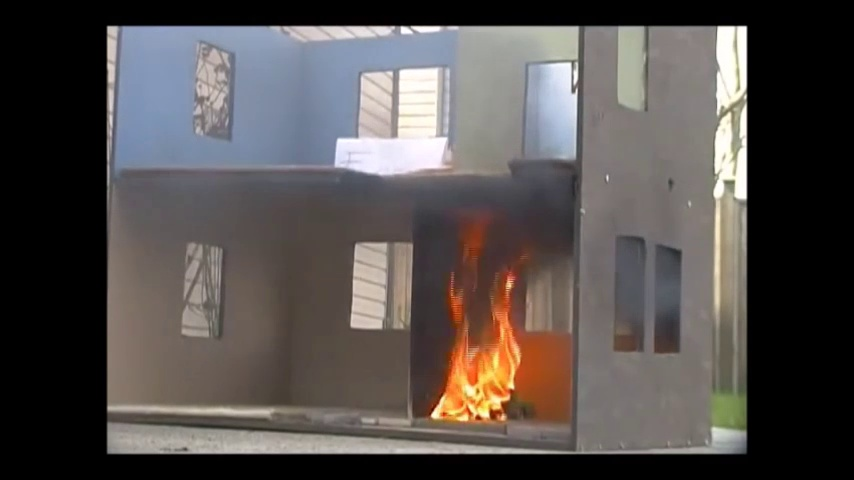fire: (431, 260, 519, 420)
